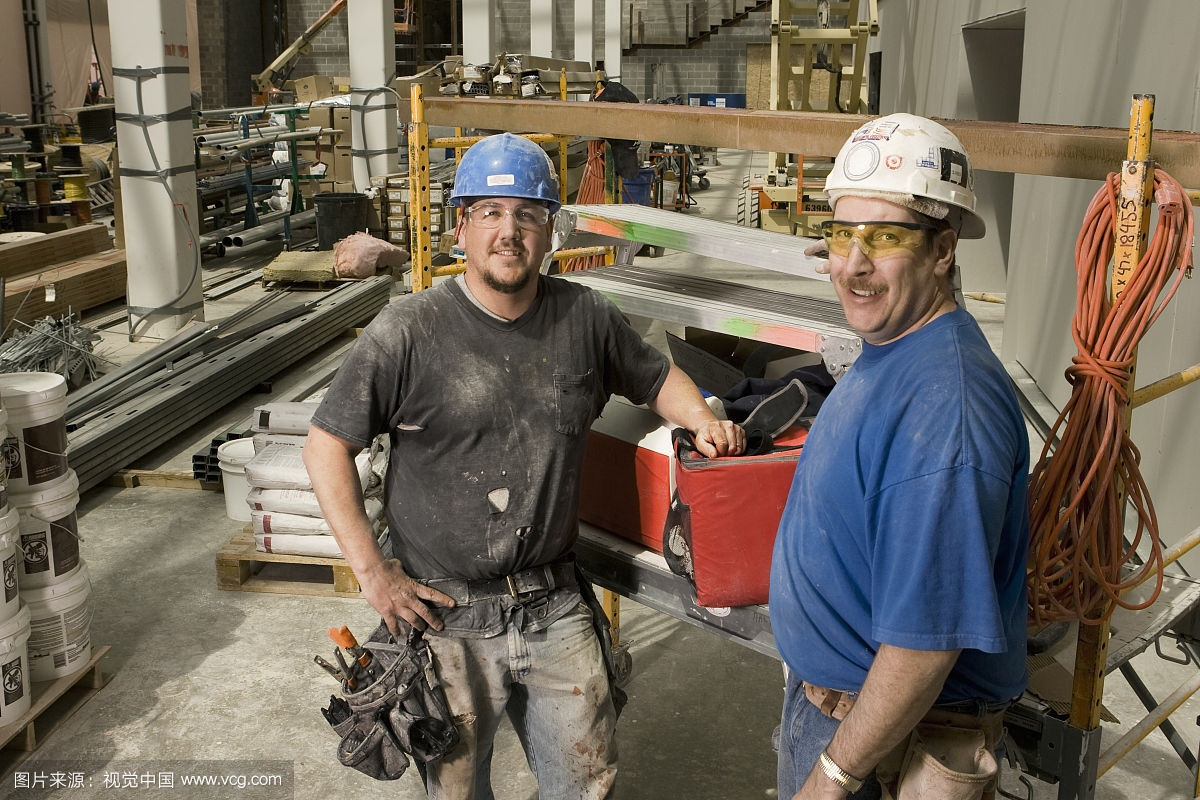blue: (451, 135, 562, 298)
white: (817, 108, 983, 343)
